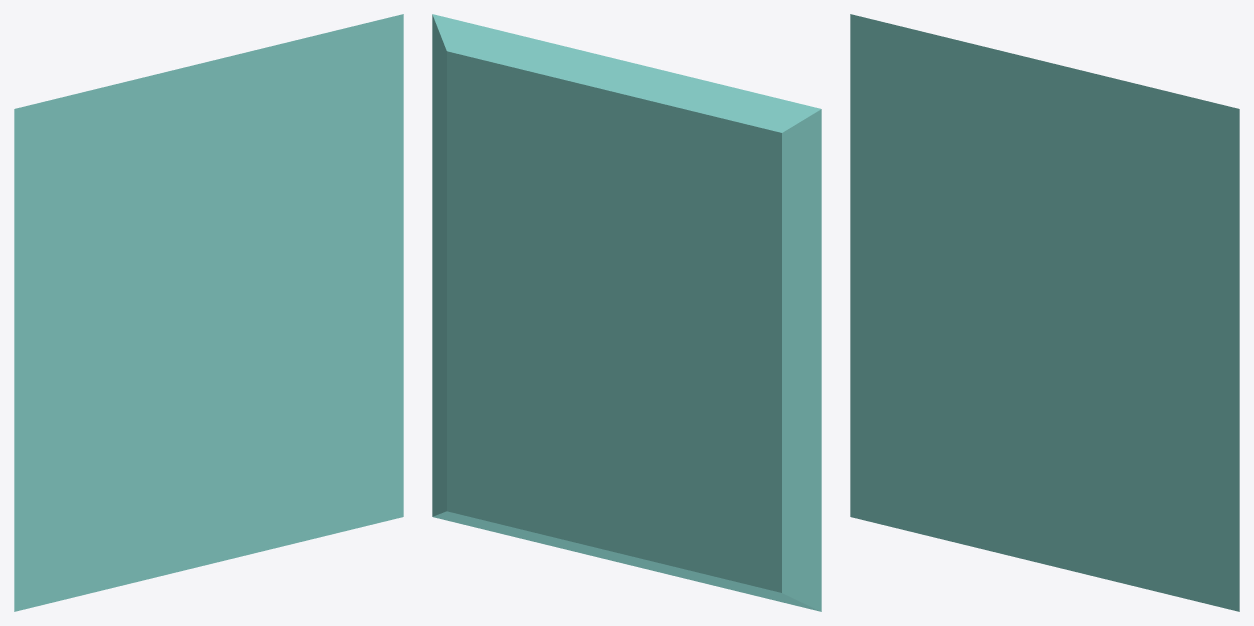
Rendered from DinerBarWoodDor_Collision.fbx.
The picture shows the model from 3 angles, left to right: view 1: azimuth 30°, elevation 25°; view 2: azimuth 150°, elevation 25°; view 3: azimuth 330°, elevation 25°; orthographic projection.
Visible parts, largest first — view 1: DinerBarWoodDor_Collision; view 2: DinerBarWoodDor_Collision; view 3: DinerBarWoodDor_Collision.
Boxes of the visible parts, <box> form: DinerBarWoodDor_Collision: <box>14,14,403,611</box>; DinerBarWoodDor_Collision: <box>432,14,821,611</box>; DinerBarWoodDor_Collision: <box>850,14,1239,611</box>.
Size of the model in its own units: 0.7084 by 0.8742 by 0.0394.
